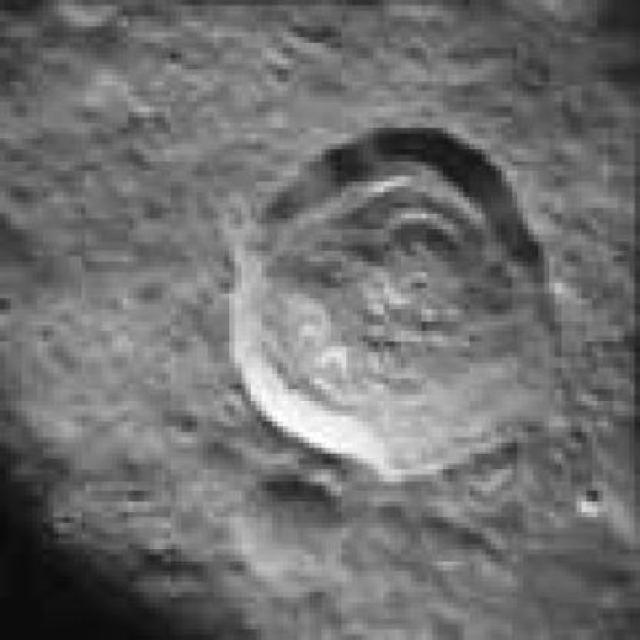crater: (233, 128, 555, 466)
